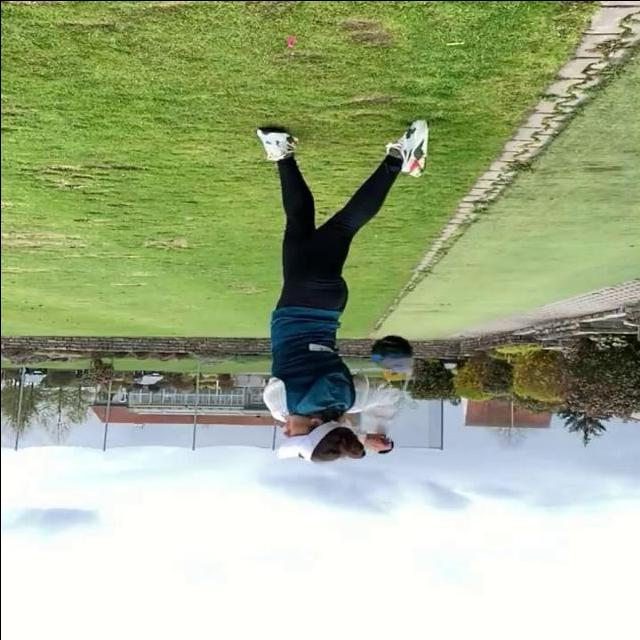golf club-handle: (370, 335, 414, 437)
golf club-head: (370, 336, 414, 373)
